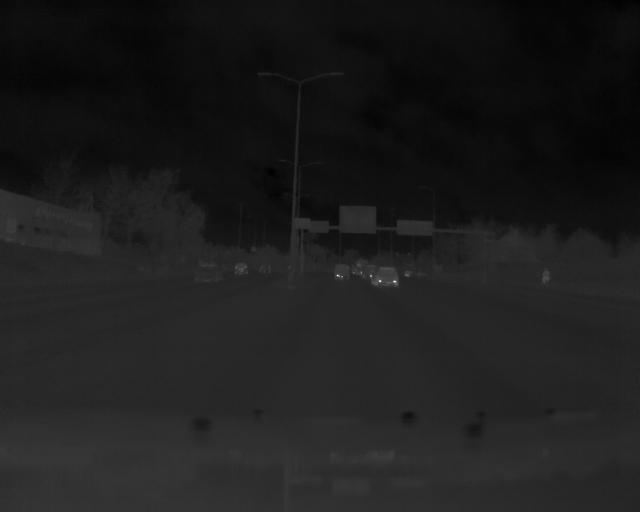car: (190, 256, 228, 285), (370, 264, 404, 291), (231, 260, 252, 279), (331, 262, 351, 280)
person: (540, 264, 551, 289)
